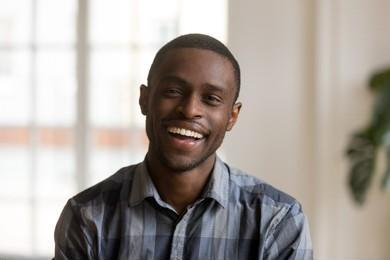face: (148, 51, 234, 173)
